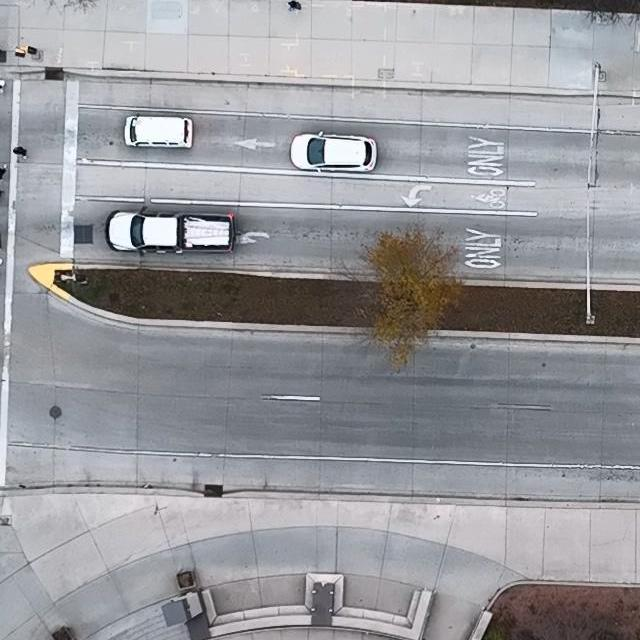car: (105, 205, 235, 255), (289, 131, 378, 175), (123, 114, 195, 150)
